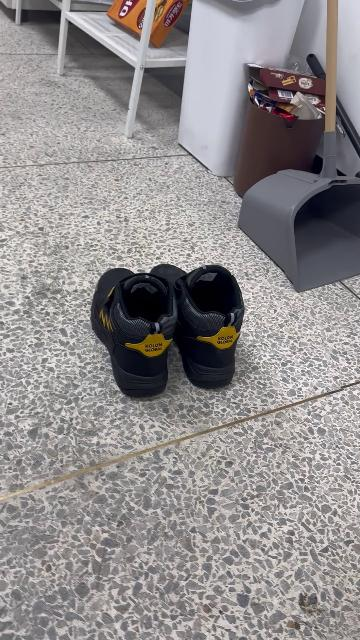shoe_worn: (149, 263, 246, 388), (90, 266, 178, 398)
